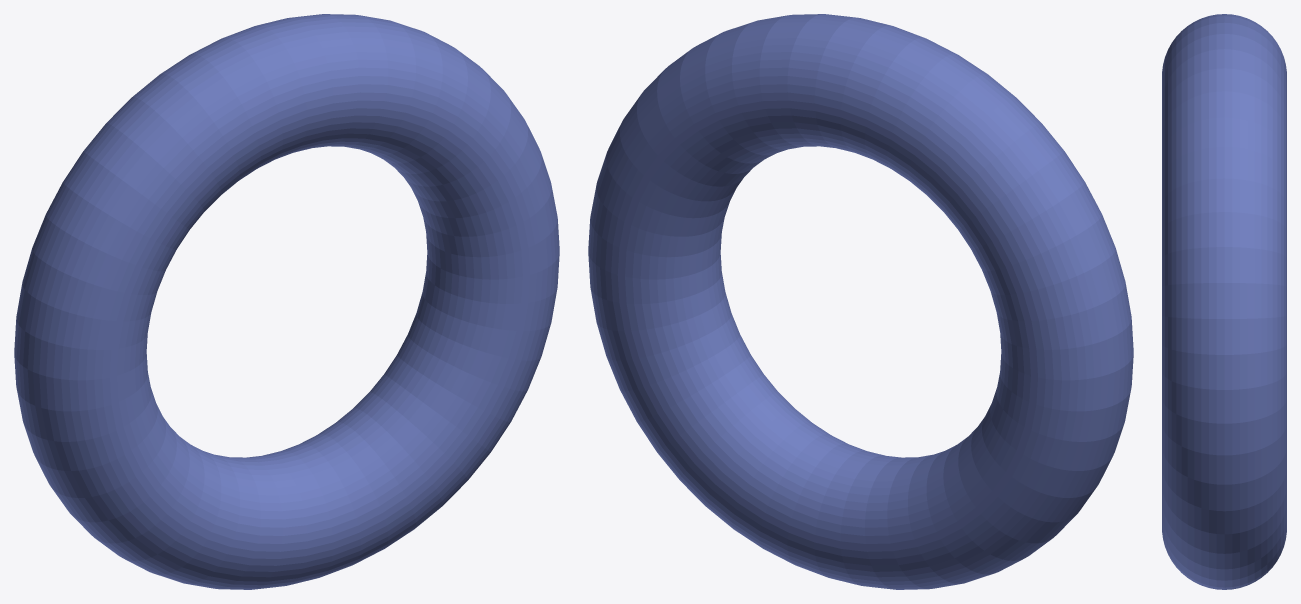
The picture shows the model from 3 angles, left to right: view 1: azimuth 30°, elevation 25°; view 2: azimuth 150°, elevation 25°; view 3: azimuth 270°, elevation 25°; orthographic projection. The views are drawn at different scales.
Parts seen in each view (by area): view 1: world; view 2: world; view 3: world.
Boxes of the visible parts, <box> form: world: <box>14,14,559,589</box>; world: <box>588,14,1133,589</box>; world: <box>1162,14,1286,589</box>.
Size of the model in its own units: 15.33 by 15.3 by 3.33.
